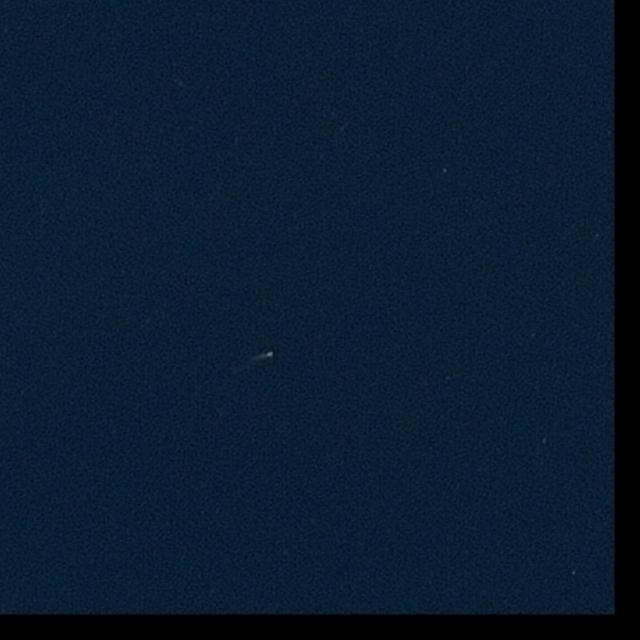ship: (266, 351, 274, 358)
